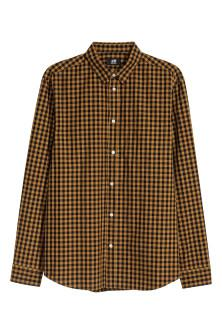teeshirt: (11, 44, 212, 292)
